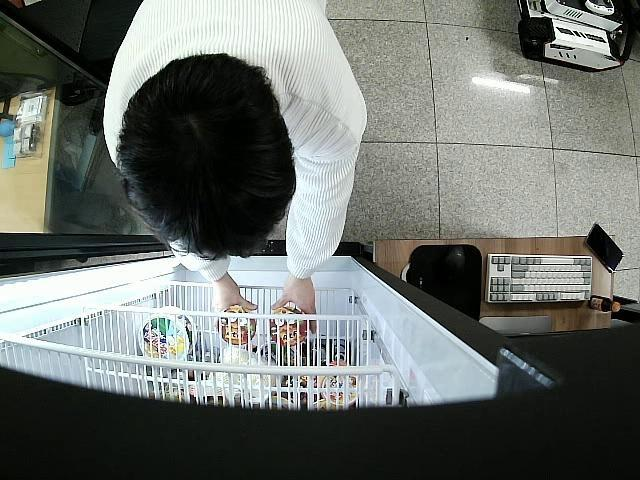06_nuguri_S: (267, 306, 308, 348), (216, 307, 257, 346)
